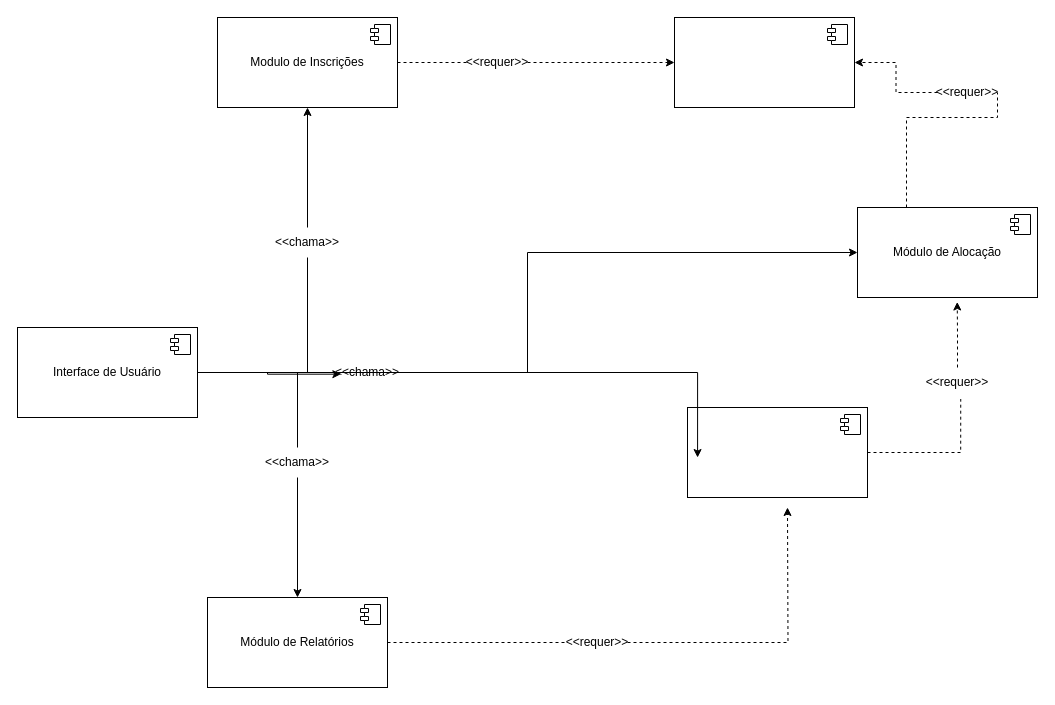
The diagram is 1055 pixels wide and 705 high, and some of its shapes have lost their labels. The centre of each missing label's shape, as x and y in pixels:
Módulo de Competições: (x=764, y=62)
Módulo de Resultados: (x=777, y=452)
